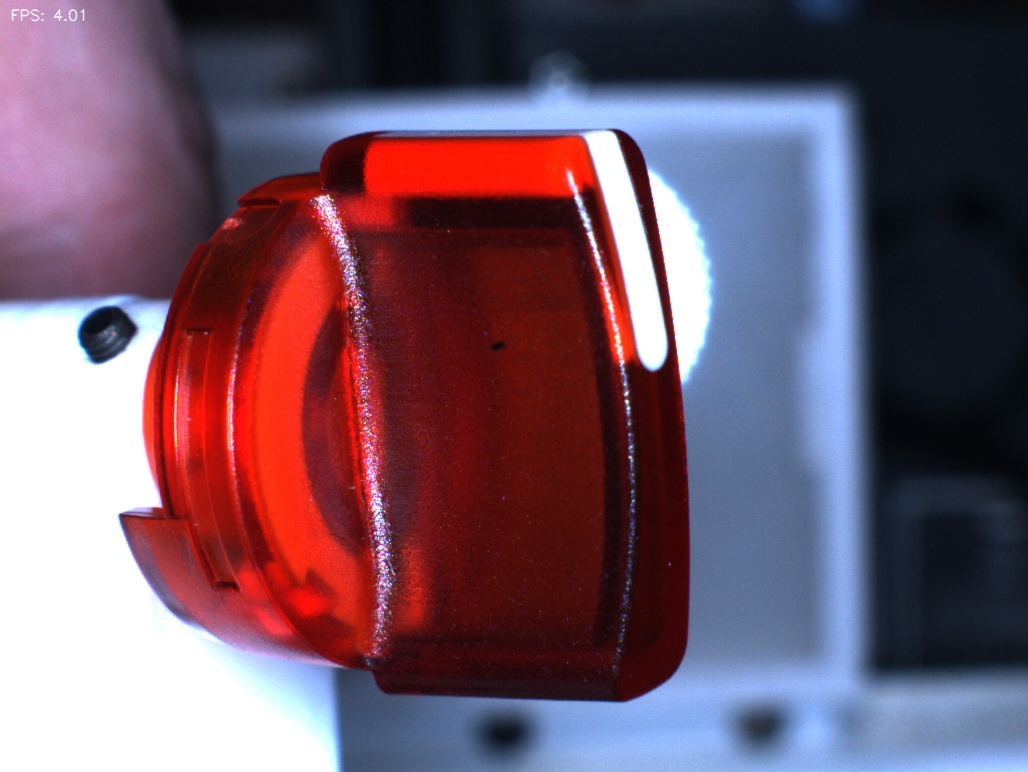PointNoir: (462, 307, 539, 390)
